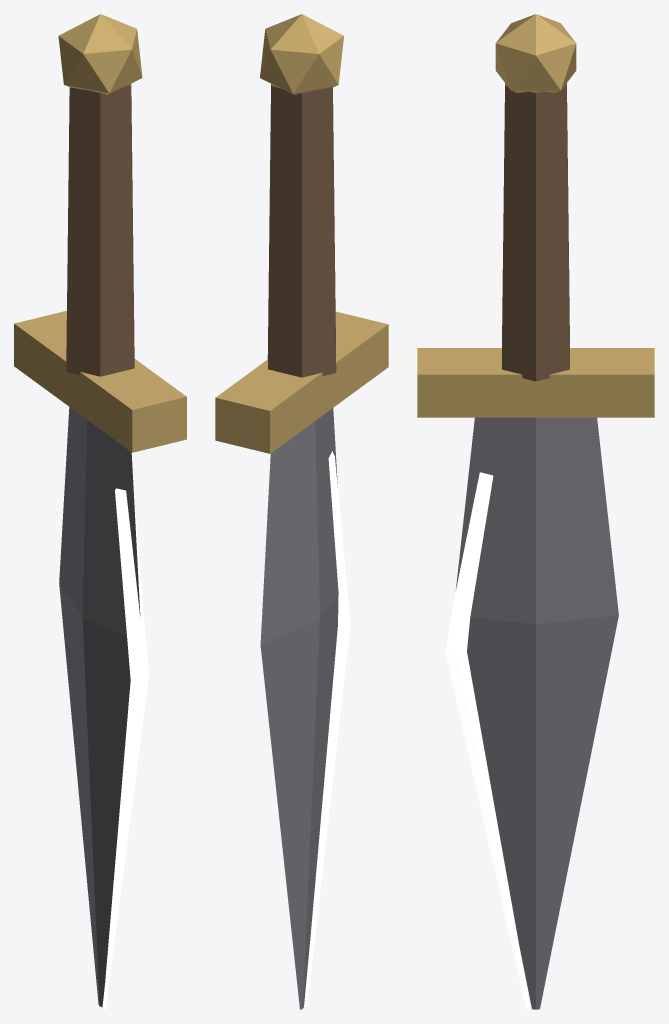
The model's file is short-blade.glb.
The picture shows the model from 3 angles, left to right: view 1: azimuth 30°, elevation 25°; view 2: azimuth 150°, elevation 25°; view 3: azimuth 270°, elevation 25°; orthographic projection.
Parts seen in each view (by area): view 1: short_blade; view 2: short_blade; view 3: short_blade.
Part boxes in pixels (x1=…): short_blade: x1=14, y1=14, x2=186, y2=1009; short_blade: x1=215, y1=14, x2=388, y2=1009; short_blade: x1=417, y1=14, x2=654, y2=1009.
Size of the model in its own units: 0.0215 by 0.2781 by 0.06.
